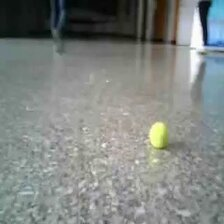tennis: (149, 121, 171, 149)
